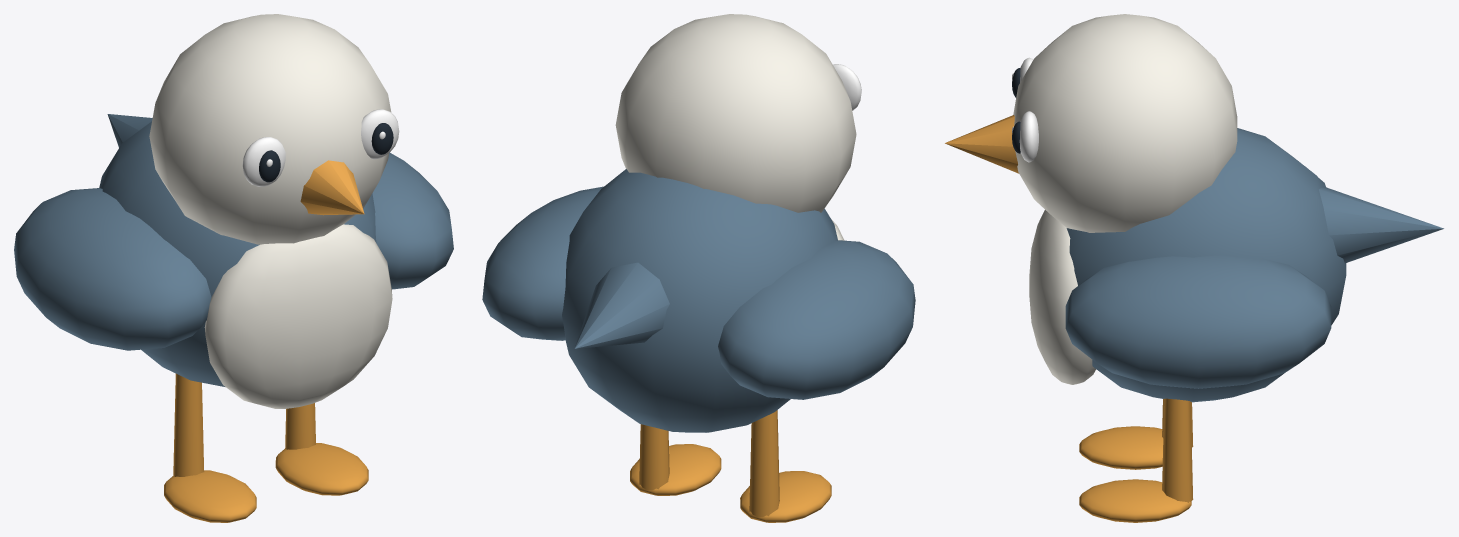
3 views of the same model, side by side, from view 1: azimuth 30°, elevation 25°; view 2: azimuth 150°, elevation 25°; view 3: azimuth 270°, elevation 25° (orthographic). The views are drawn at different scales.
Visible parts, largest first — view 1: creature_10; view 2: creature_10; view 3: creature_10.
Boxes of the visible parts, <box> form: creature_10: <box>14,14,453,522</box>; creature_10: <box>482,14,915,522</box>; creature_10: <box>945,14,1443,522</box>.
Bounding box in the file's own units: 0.8351 × 0.975 × 0.955.
